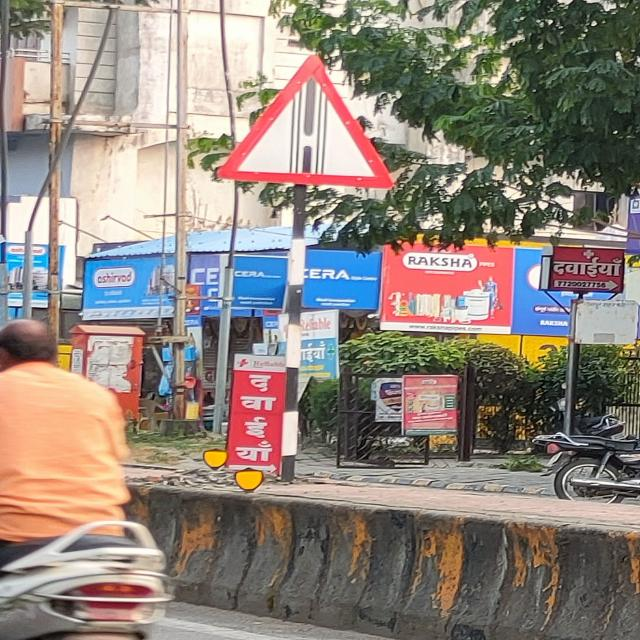GAP_IN_MEDIAN: (215, 55, 394, 188)
